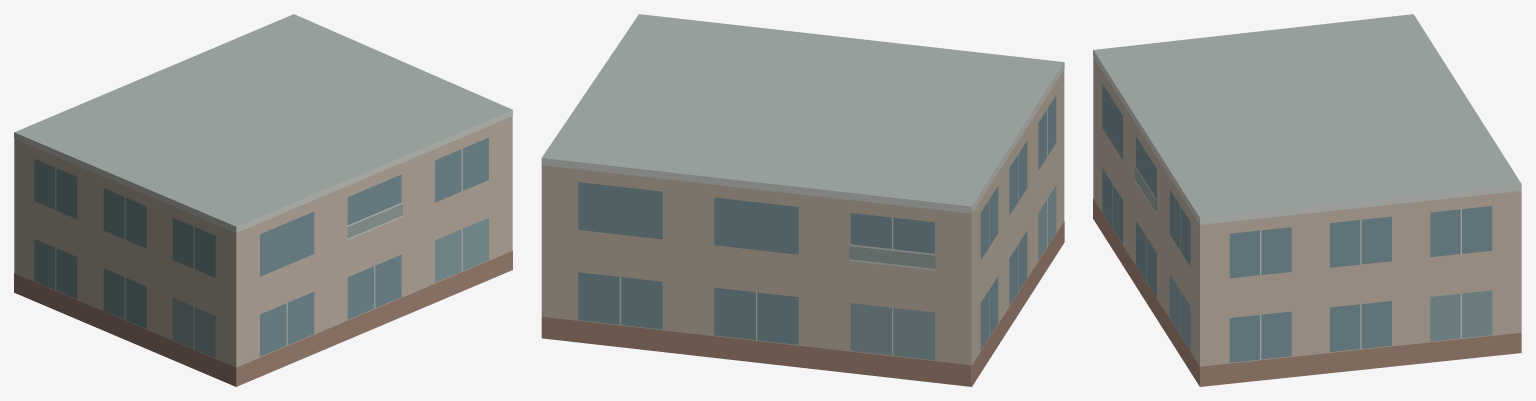
Rendered from survey-upis-32754041.glb.
3 renders of one model, left to right at view 1: azimuth 30°, elevation 25°; view 2: azimuth 150°, elevation 25°; view 3: azimuth 270°, elevation 25°, orthographic. The views are drawn at different scales.
Parts seen in each view (by area): view 1: survey-upis-32754041.tmp; view 2: survey-upis-32754041.tmp; view 3: survey-upis-32754041.tmp.
Part boxes in pixels (x1=…): survey-upis-32754041.tmp: x1=14, y1=14, x2=512, y2=386; survey-upis-32754041.tmp: x1=541, y1=14, x2=1064, y2=386; survey-upis-32754041.tmp: x1=1093, y1=14, x2=1521, y2=386.
Bounding box in the file's own units: 15.83 × 6.1 × 14.05.
